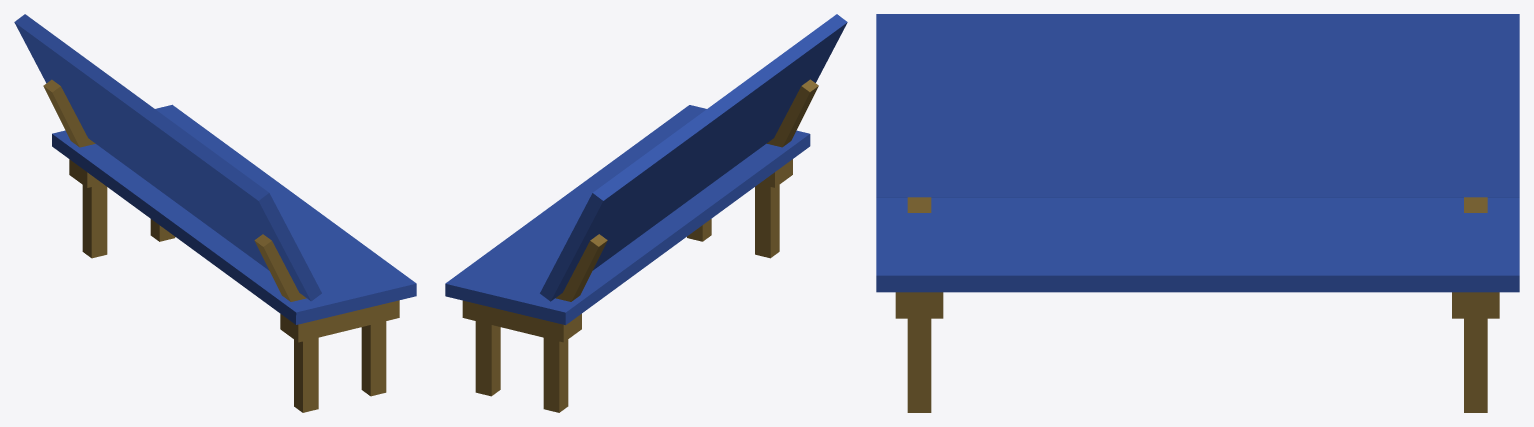
File: brench.glb
3 renders of one model, left to right at view 1: azimuth 30°, elevation 25°; view 2: azimuth 150°, elevation 25°; view 3: azimuth 270°, elevation 25°, orthographic. The views are drawn at different scales.
Parts seen in each view (by area): view 1: Cube, Cube.001, Cube.003, Cube.002; view 2: Cube, Cube.001, Cube.002, Cube.003; view 3: Cube, Cube.001, Cube.003, Cube.002.
Boxes of the visible parts, x1,y1,x2,y2 form: Cube: (14, 14, 321, 301); Cube.001: (52, 104, 416, 324); Cube.003: (254, 234, 399, 412); Cube.002: (43, 79, 175, 258); Cube: (540, 14, 847, 301); Cube.001: (445, 105, 810, 325); Cube.002: (462, 234, 607, 412); Cube.003: (687, 79, 818, 258); Cube: (876, 14, 1519, 197); Cube.001: (876, 197, 1519, 292); Cube.003: (895, 197, 943, 412); Cube.002: (1452, 197, 1499, 412).
Bounding box in the file's own units: 2.62 × 3.81 × 7.02.
